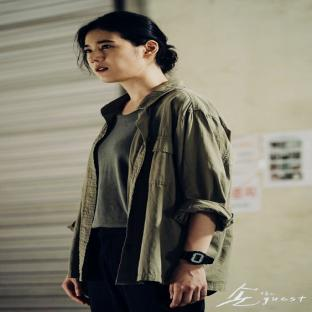Human: (62, 11, 235, 312)
